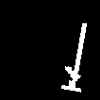double_crochet: (61, 23, 86, 91)
